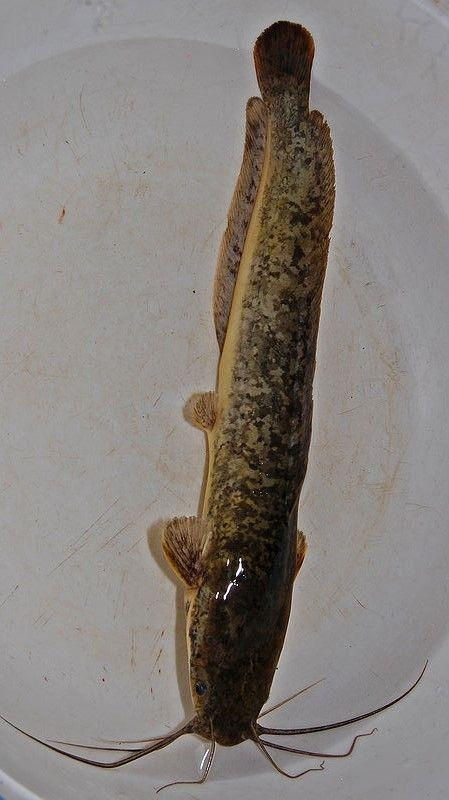Catfish: (143, 20, 348, 768)
